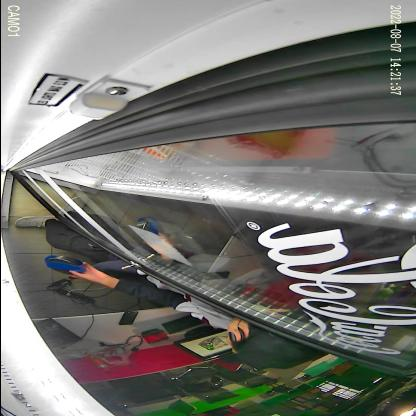blue: (43, 255, 86, 275)
